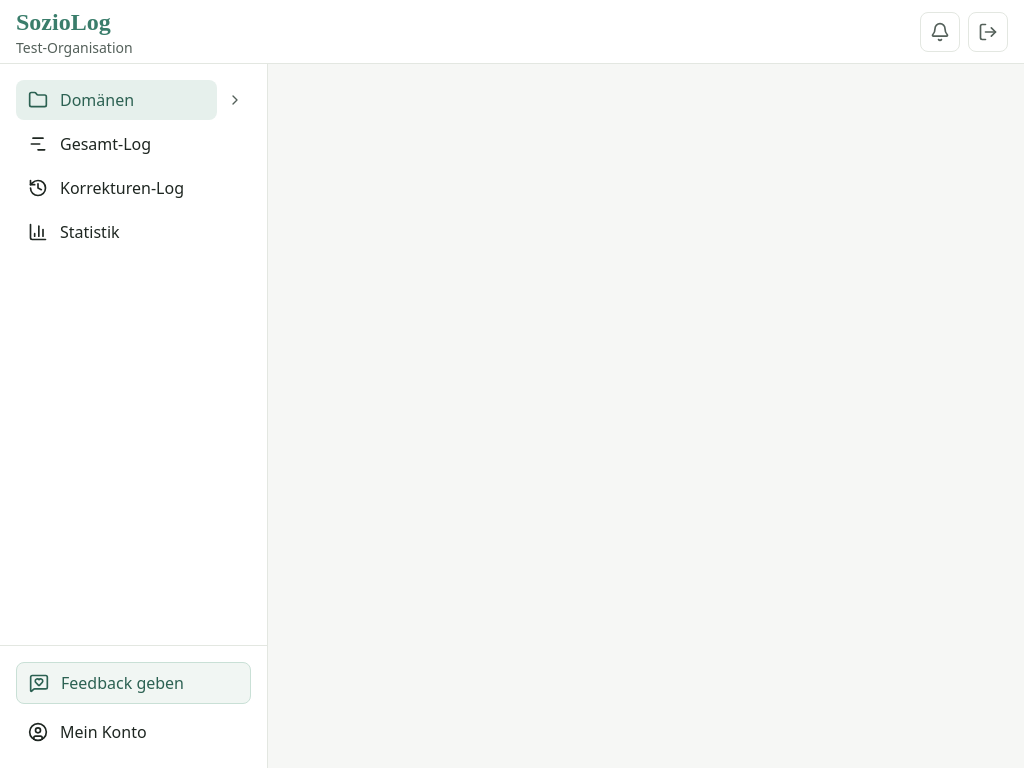
AppShell › Feedback › öffnet den Dialog über der aktuellen Seite und nennt den Empfänger
Click the button "Feedback geben".
click(134, 683)  # box [16,662,251,704]
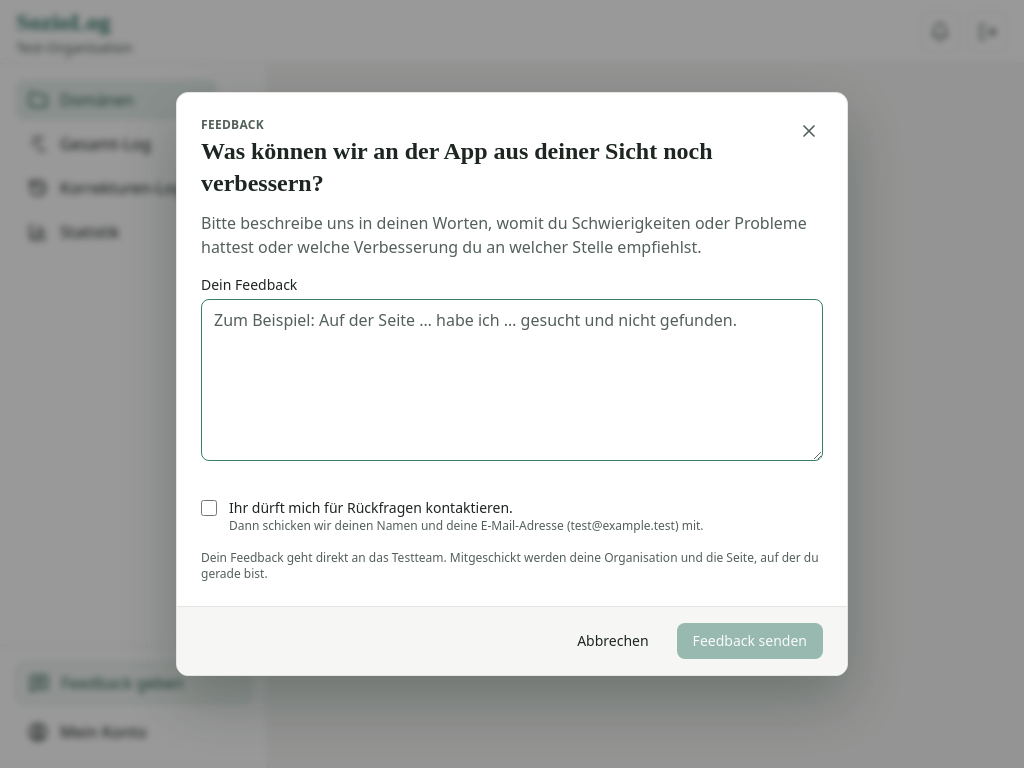
Now the dialog is shown, box [176,92,848,676]
Now the heading "Was können wir an der App aus deiner Sicht noch verbessern?" is shown, box [201,135,779,199]
Now the text "geht direkt an das Testteam." is shown, box [201,550,823,582]
